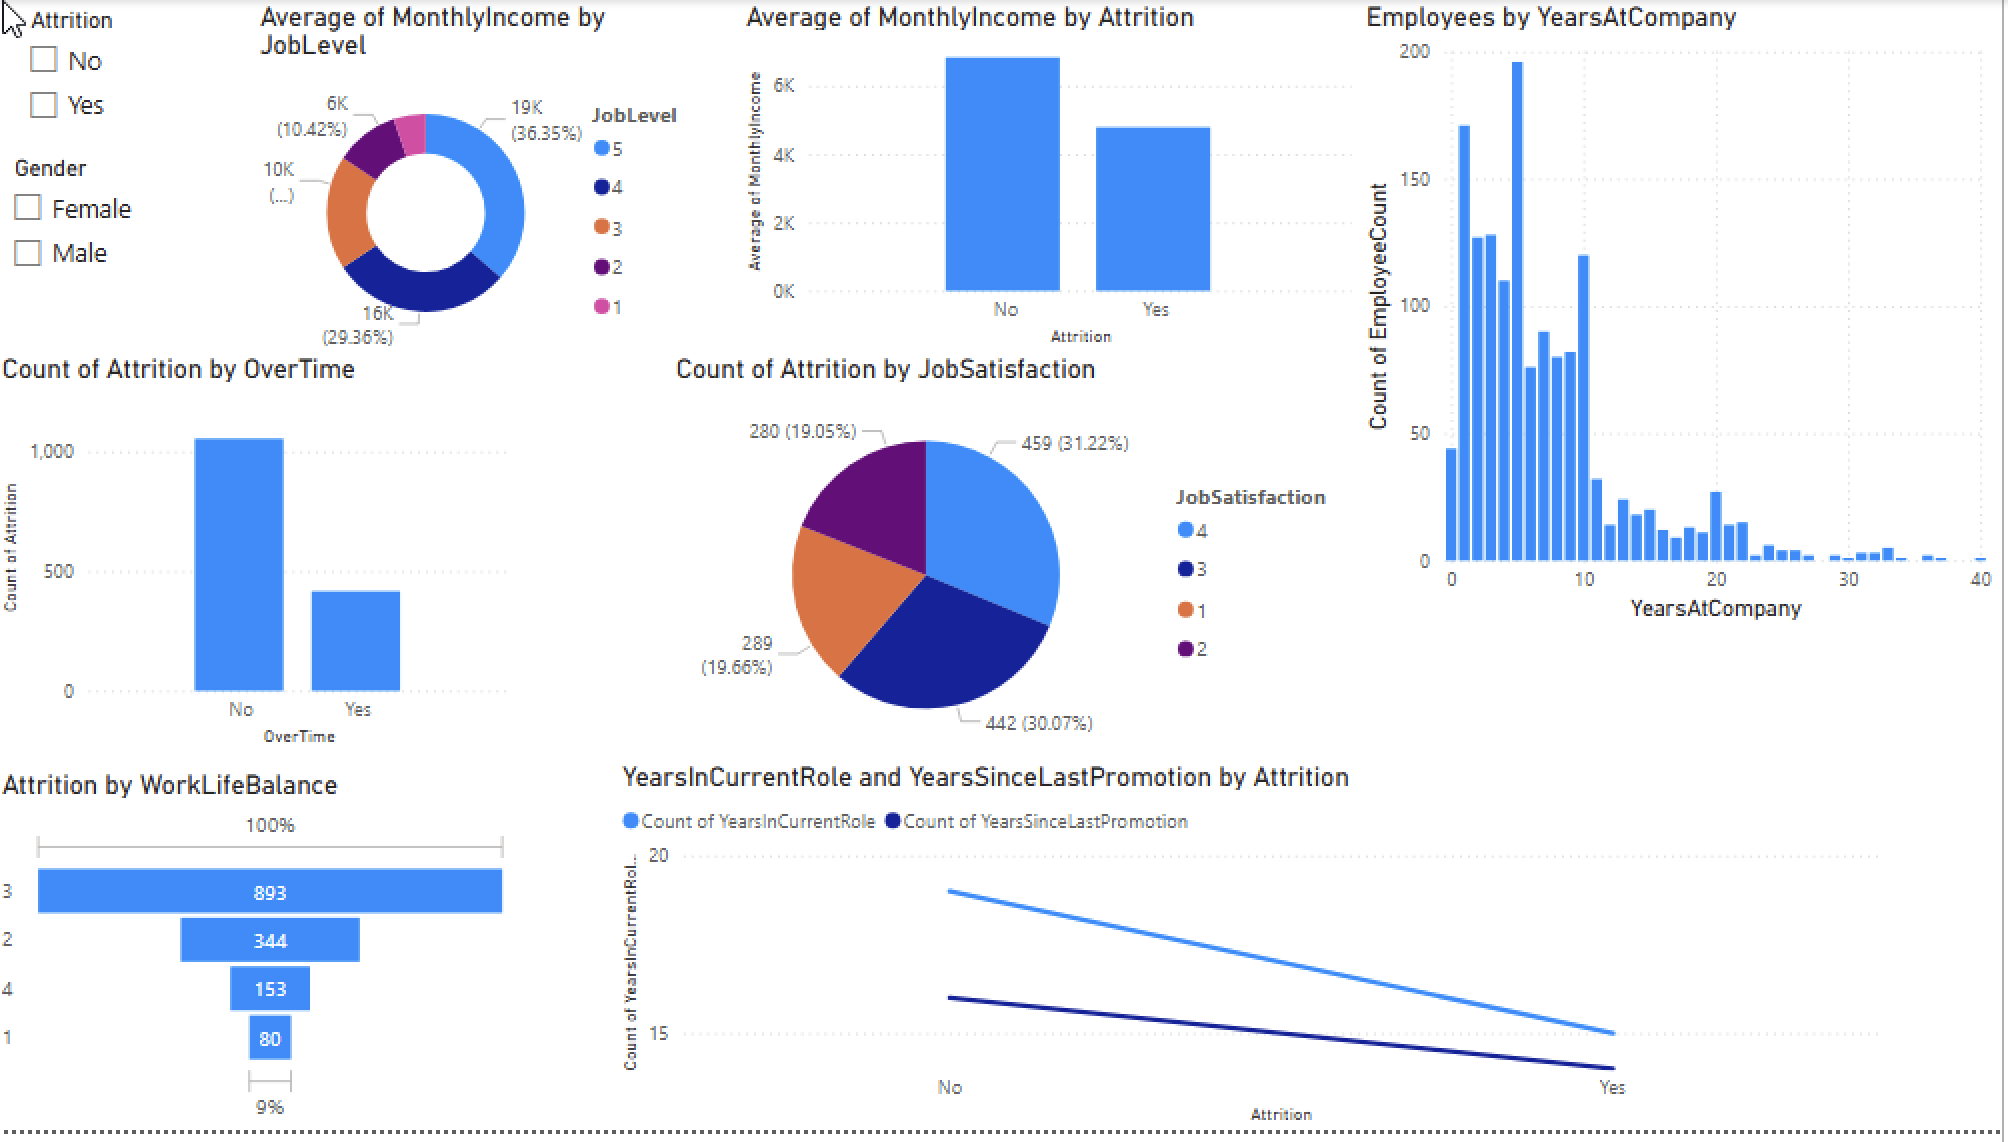

The page's visual inventory and layout, read from the dashboard file:
{"tool":"powerbi","page":{"name":"Salary and Expectation","canvas":[1280,720],"ordinal":1},"visuals":[{"type":"slicer","fields":{"Values":["HR-Employees.Attrition"]},"box":[10.2,0,154.3,94.3],"z":0},{"type":"slicer","fields":{"Values":["HR-Employees.Gender"]},"box":[0,94.3,164.5,102],"z":1000},{"type":"columnChart","fields":{"Y":["Avg(HR-Employees.MonthlyIncome)"],"Category":["HR-Employees.Attrition"]},"box":[474.3,0,396.5,224.4],"z":2000},{"type":"clusteredColumnChart","title":"Employees by YearsAtCompany","fields":{"Y":["CountNonNull(HR-Employees.EmployeeCount)"],"Category":["HR-Employees.YearsAtCompany"]},"box":[869.5,0,409.2,400.3],"z":3000},{"type":"donutChart","fields":{"Category":["HR-Employees.JobLevel"],"Y":["Avg(HR-Employees.MonthlyIncome)"]},"box":[164.5,0,294.5,233.3],"z":4000},{"type":"clusteredColumnChart","fields":{"Category":["HR-Employees.OverTime"],"Y":["CountNonNull(HR-Employees.Attrition)"]},"box":[0,224.4,334,255],"z":5000},{"type":"funnel","title":"Attrition by WorkLifeBalance","fields":{"Category":["HR-Employees.WorkLifeBalance"],"Y":["CountNonNull(HR-Employees.Attrition)"]},"box":[0,489,334,231],"z":6000},{"type":"pieChart","fields":{"Y":["CountNonNull(HR-Employees.Attrition)"],"Category":["HR-Employees.JobSatisfaction"]},"box":[429.6,224.4,439.8,265.2],"z":7000},{"type":"lineChart","title":"YearsInCurrentRole and YearsSinceLastPromotion by Attrition","fields":{"Category":["HR-Employees.Attrition"],"Y":["Count(HR-Employees.YearsInCurrentRole)","Count(HR-Employees.YearsSinceLastPromotion)"]},"box":[395.2,484.5,810.8,235.9],"z":8000}]}

Visuals, with their boxes in screenshot pixels (x1, y1, x2, y2), scaled from the page's 1280x720 canvas onto the 2008x1142 screenshot:
slicer - HR-Employees.Attrition: {"left": 16, "top": 0, "right": 258, "bottom": 150}
slicer - HR-Employees.Gender: {"left": 0, "top": 150, "right": 258, "bottom": 311}
columnChart - Avg(HR-Employees.MonthlyIncome) x HR-Employees.Attrition: {"left": 744, "top": 0, "right": 1366, "bottom": 356}
"Employees by YearsAtCompany" clusteredColumnChart: {"left": 1364, "top": 0, "right": 2006, "bottom": 635}
donutChart - HR-Employees.JobLevel x Avg(HR-Employees.MonthlyIncome): {"left": 258, "top": 0, "right": 720, "bottom": 370}
clusteredColumnChart - HR-Employees.OverTime x CountNonNull(HR-Employees.Attrition): {"left": 0, "top": 356, "right": 524, "bottom": 760}
"Attrition by WorkLifeBalance" funnel: {"left": 0, "top": 776, "right": 524, "bottom": 1141}
pieChart - CountNonNull(HR-Employees.Attrition) x HR-Employees.JobSatisfaction: {"left": 674, "top": 356, "right": 1364, "bottom": 777}
"YearsInCurrentRole and YearsSinceLastPromotion by Attrition" lineChart: {"left": 620, "top": 768, "right": 1892, "bottom": 1141}
